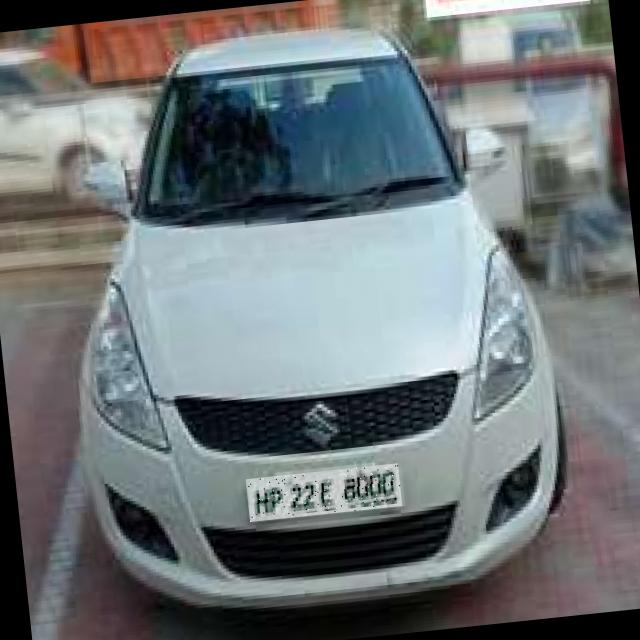Plate: (246, 464, 403, 523)
